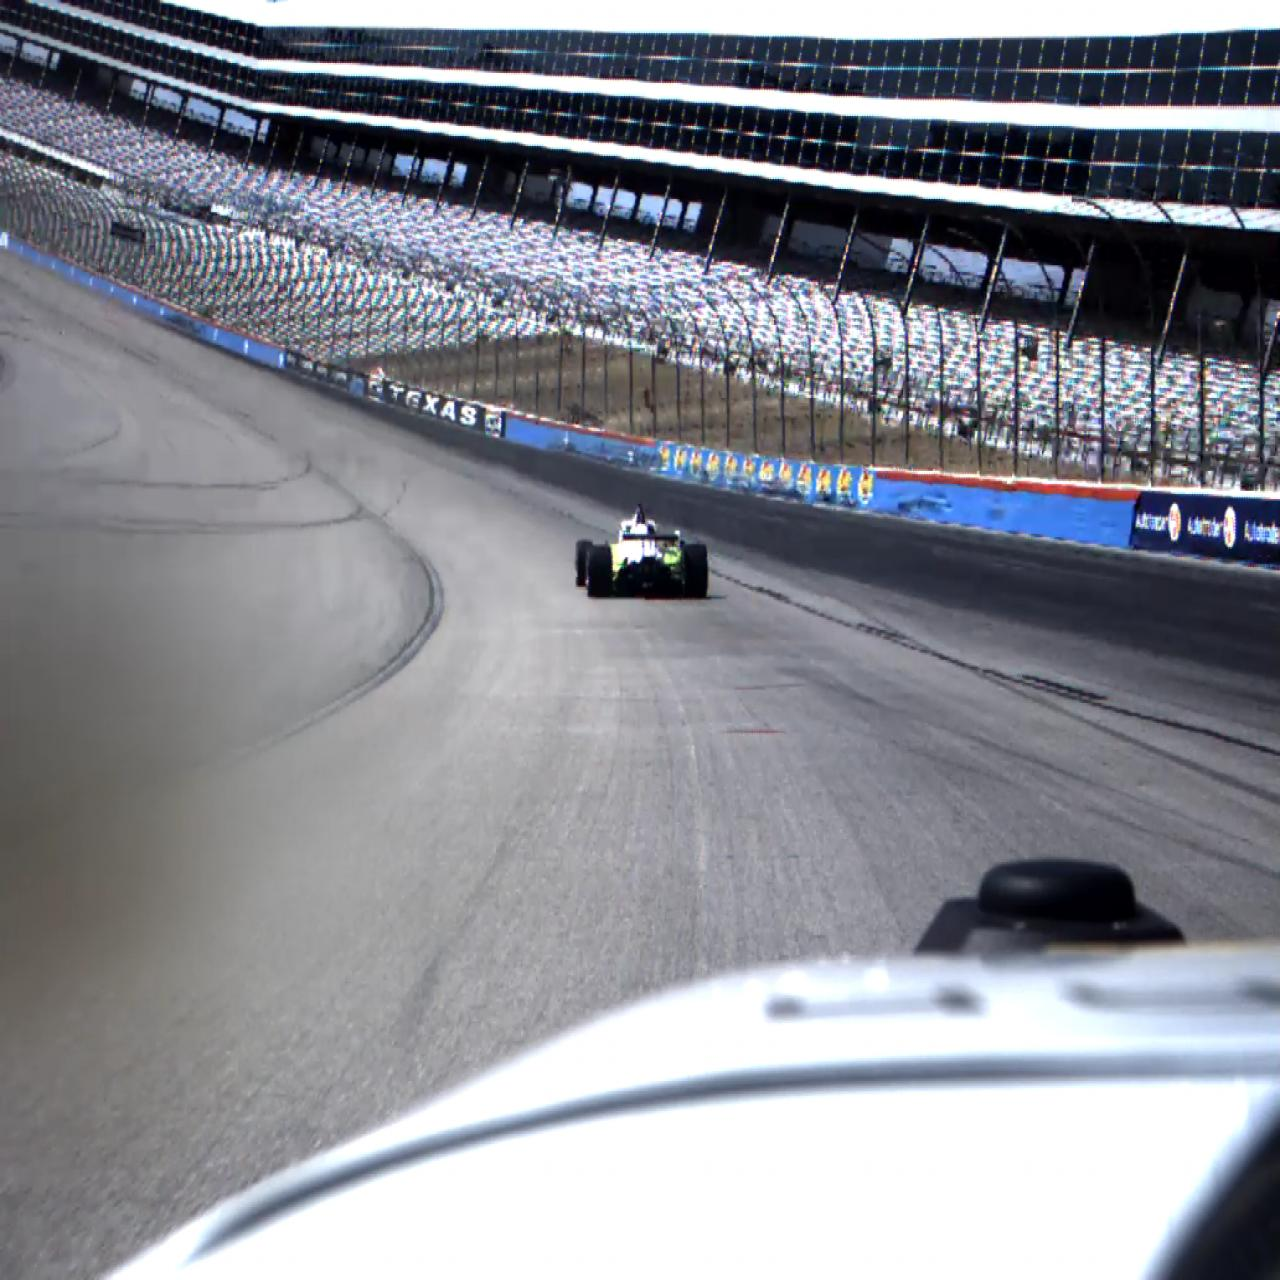AV: (574, 503, 709, 600)
Wheel: (682, 545, 708, 599), (587, 545, 612, 599), (576, 540, 592, 587)
